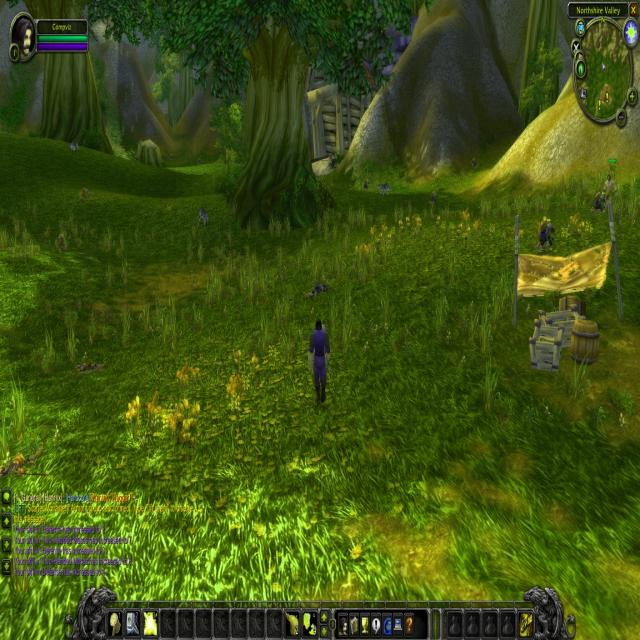wolf: (196, 200, 211, 233), (376, 179, 393, 200), (67, 133, 82, 155)
